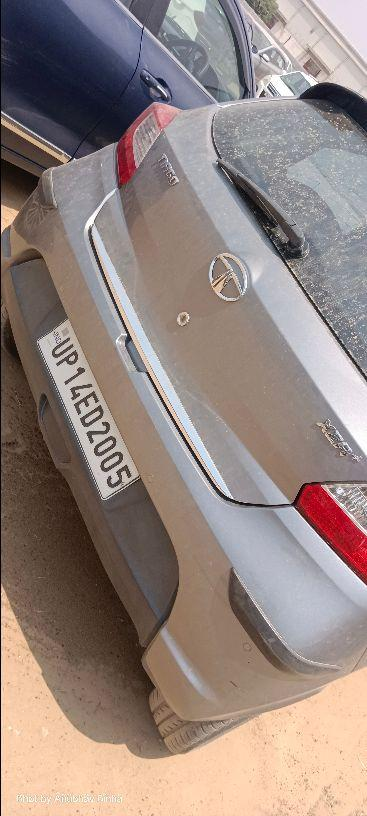license_plate: (2, 83, 365, 752), (34, 315, 141, 501)
